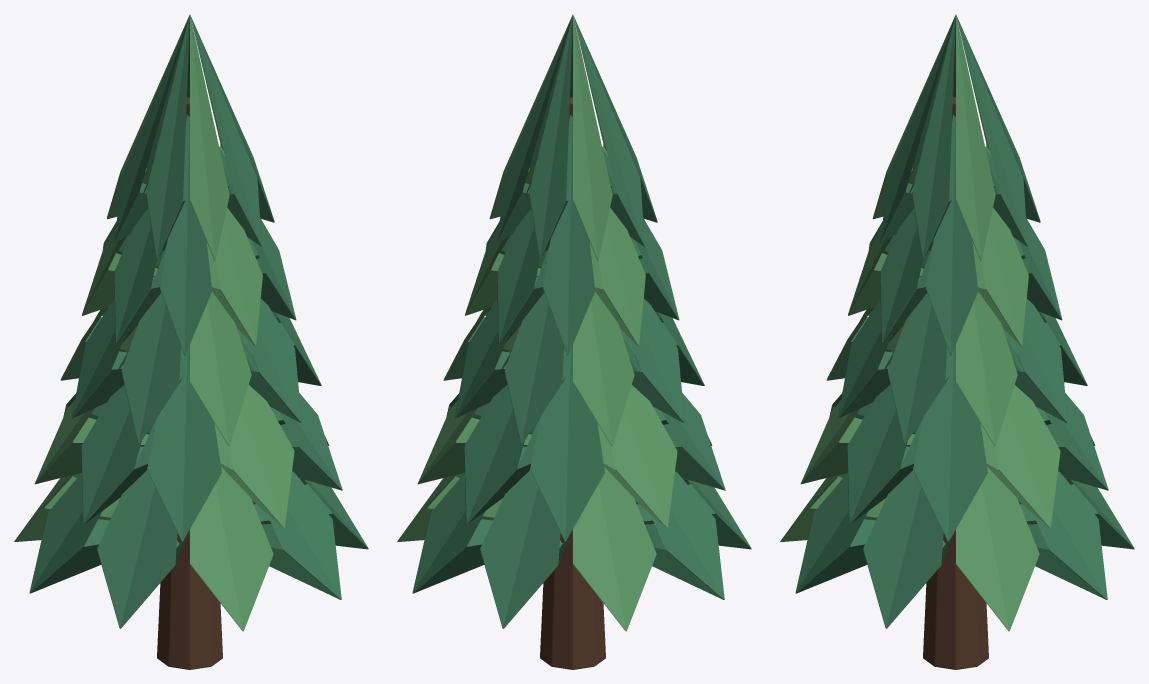
The model's file is ashwick-fir-tree.meshopt.glb.
3 views of the same model, side by side, from view 1: azimuth 30°, elevation 25°; view 2: azimuth 150°, elevation 25°; view 3: azimuth 270°, elevation 25° (orthographic).
Visible parts, largest first — view 1: Drooping boughs.003, Drooping boughs.002, Trunk.001; view 2: Drooping boughs.003, Drooping boughs.002, Trunk.001; view 3: Drooping boughs.003, Drooping boughs.002, Trunk.001.
Part boxes in pixels (x1=…): Drooping boughs.003: x1=29, y1=14, x2=368, y2=628; Drooping boughs.002: x1=14, y1=15, x2=307, y2=631; Trunk.001: x1=157, y1=97, x2=222, y2=669; Drooping boughs.003: x1=412, y1=14, x2=751, y2=628; Drooping boughs.002: x1=397, y1=15, x2=690, y2=631; Trunk.001: x1=540, y1=97, x2=605, y2=669; Drooping boughs.003: x1=795, y1=14, x2=1134, y2=628; Drooping boughs.002: x1=780, y1=15, x2=1073, y2=631; Trunk.001: x1=923, y1=97, x2=988, y2=669.
Bounding box in the file's own units: 2.81 × 5.66 × 2.83.
